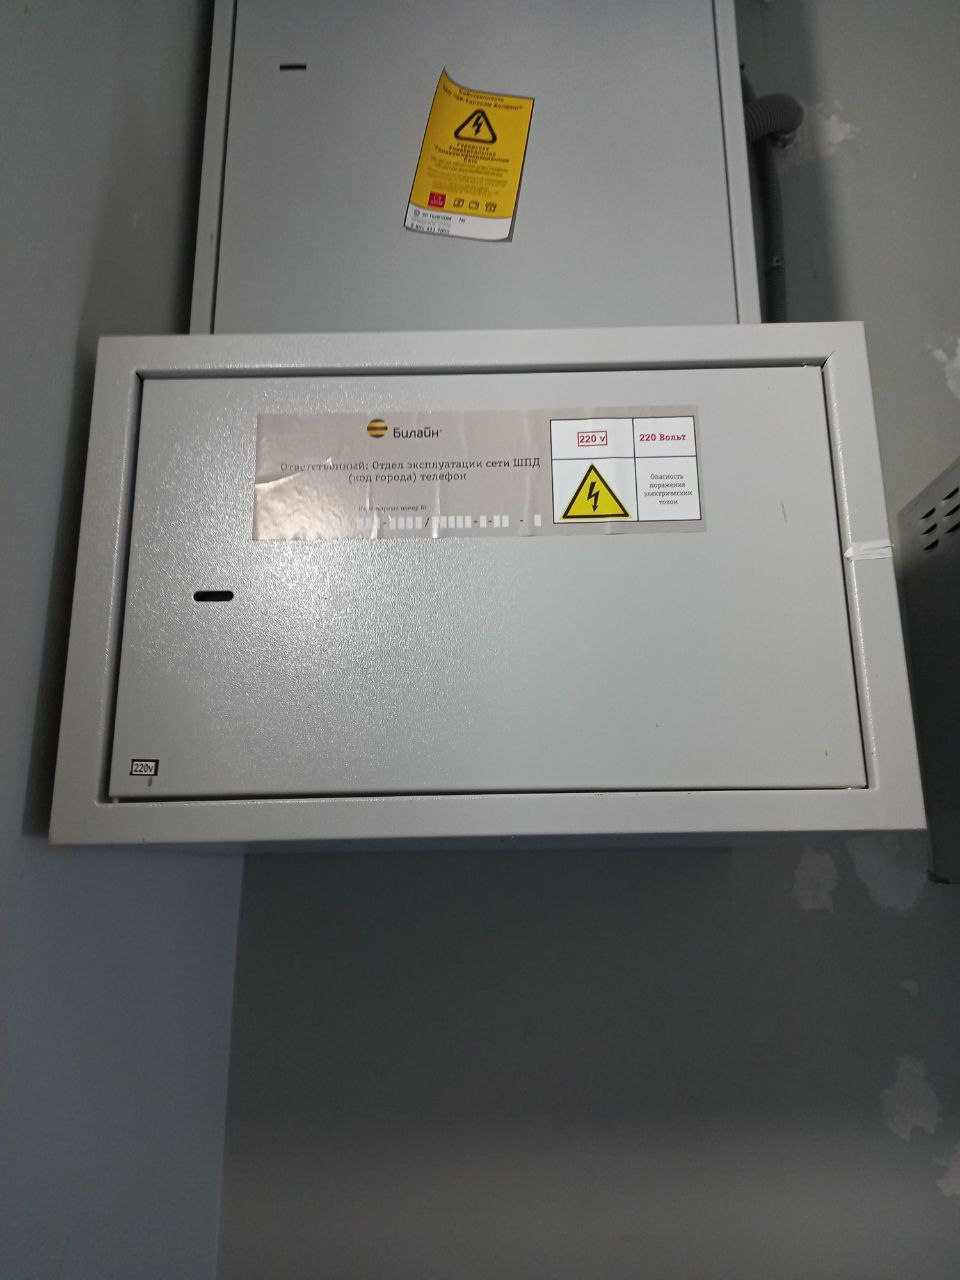shta-7m: (33, 312, 936, 860)
